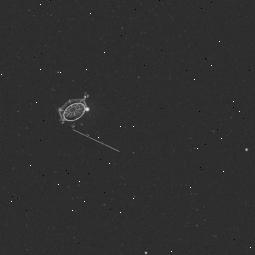earth_observation_sat_1: (47, 84, 99, 135)
